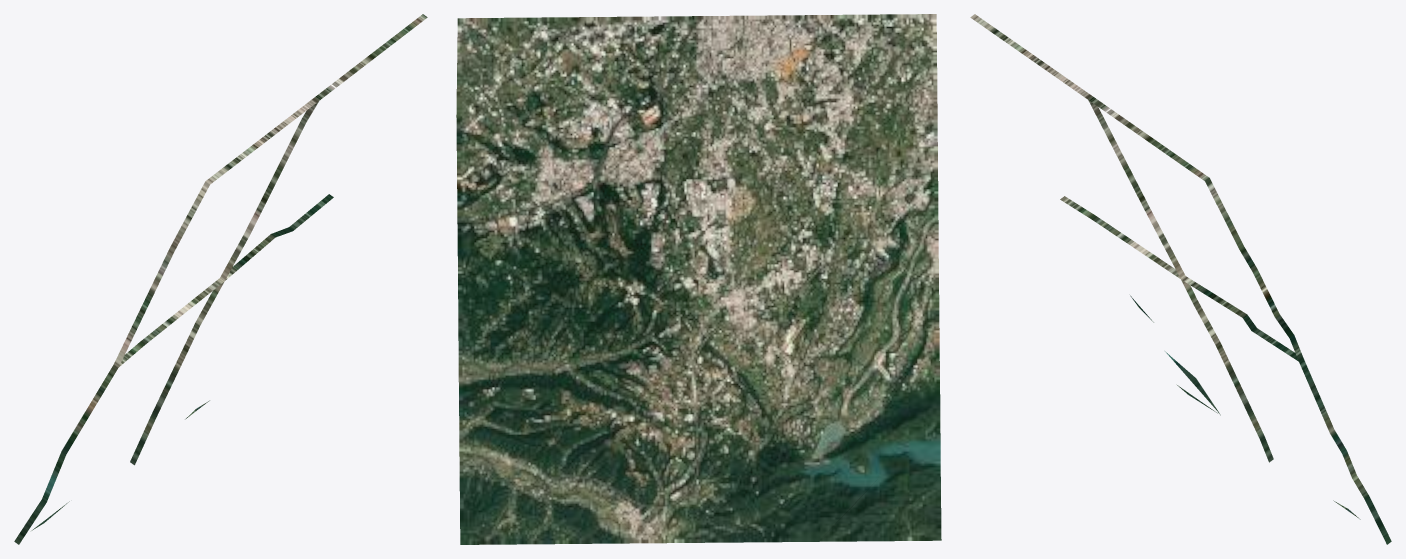
The picture shows the model from 3 angles, left to right: view 1: azimuth 30°, elevation 25°; view 2: azimuth 150°, elevation 25°; view 3: azimuth 270°, elevation 25°; orthographic projection. The views are drawn at different scales.
Bounding box in the file's own units: 19817 × 17885 × 16574.
1 material, 1 textured.
